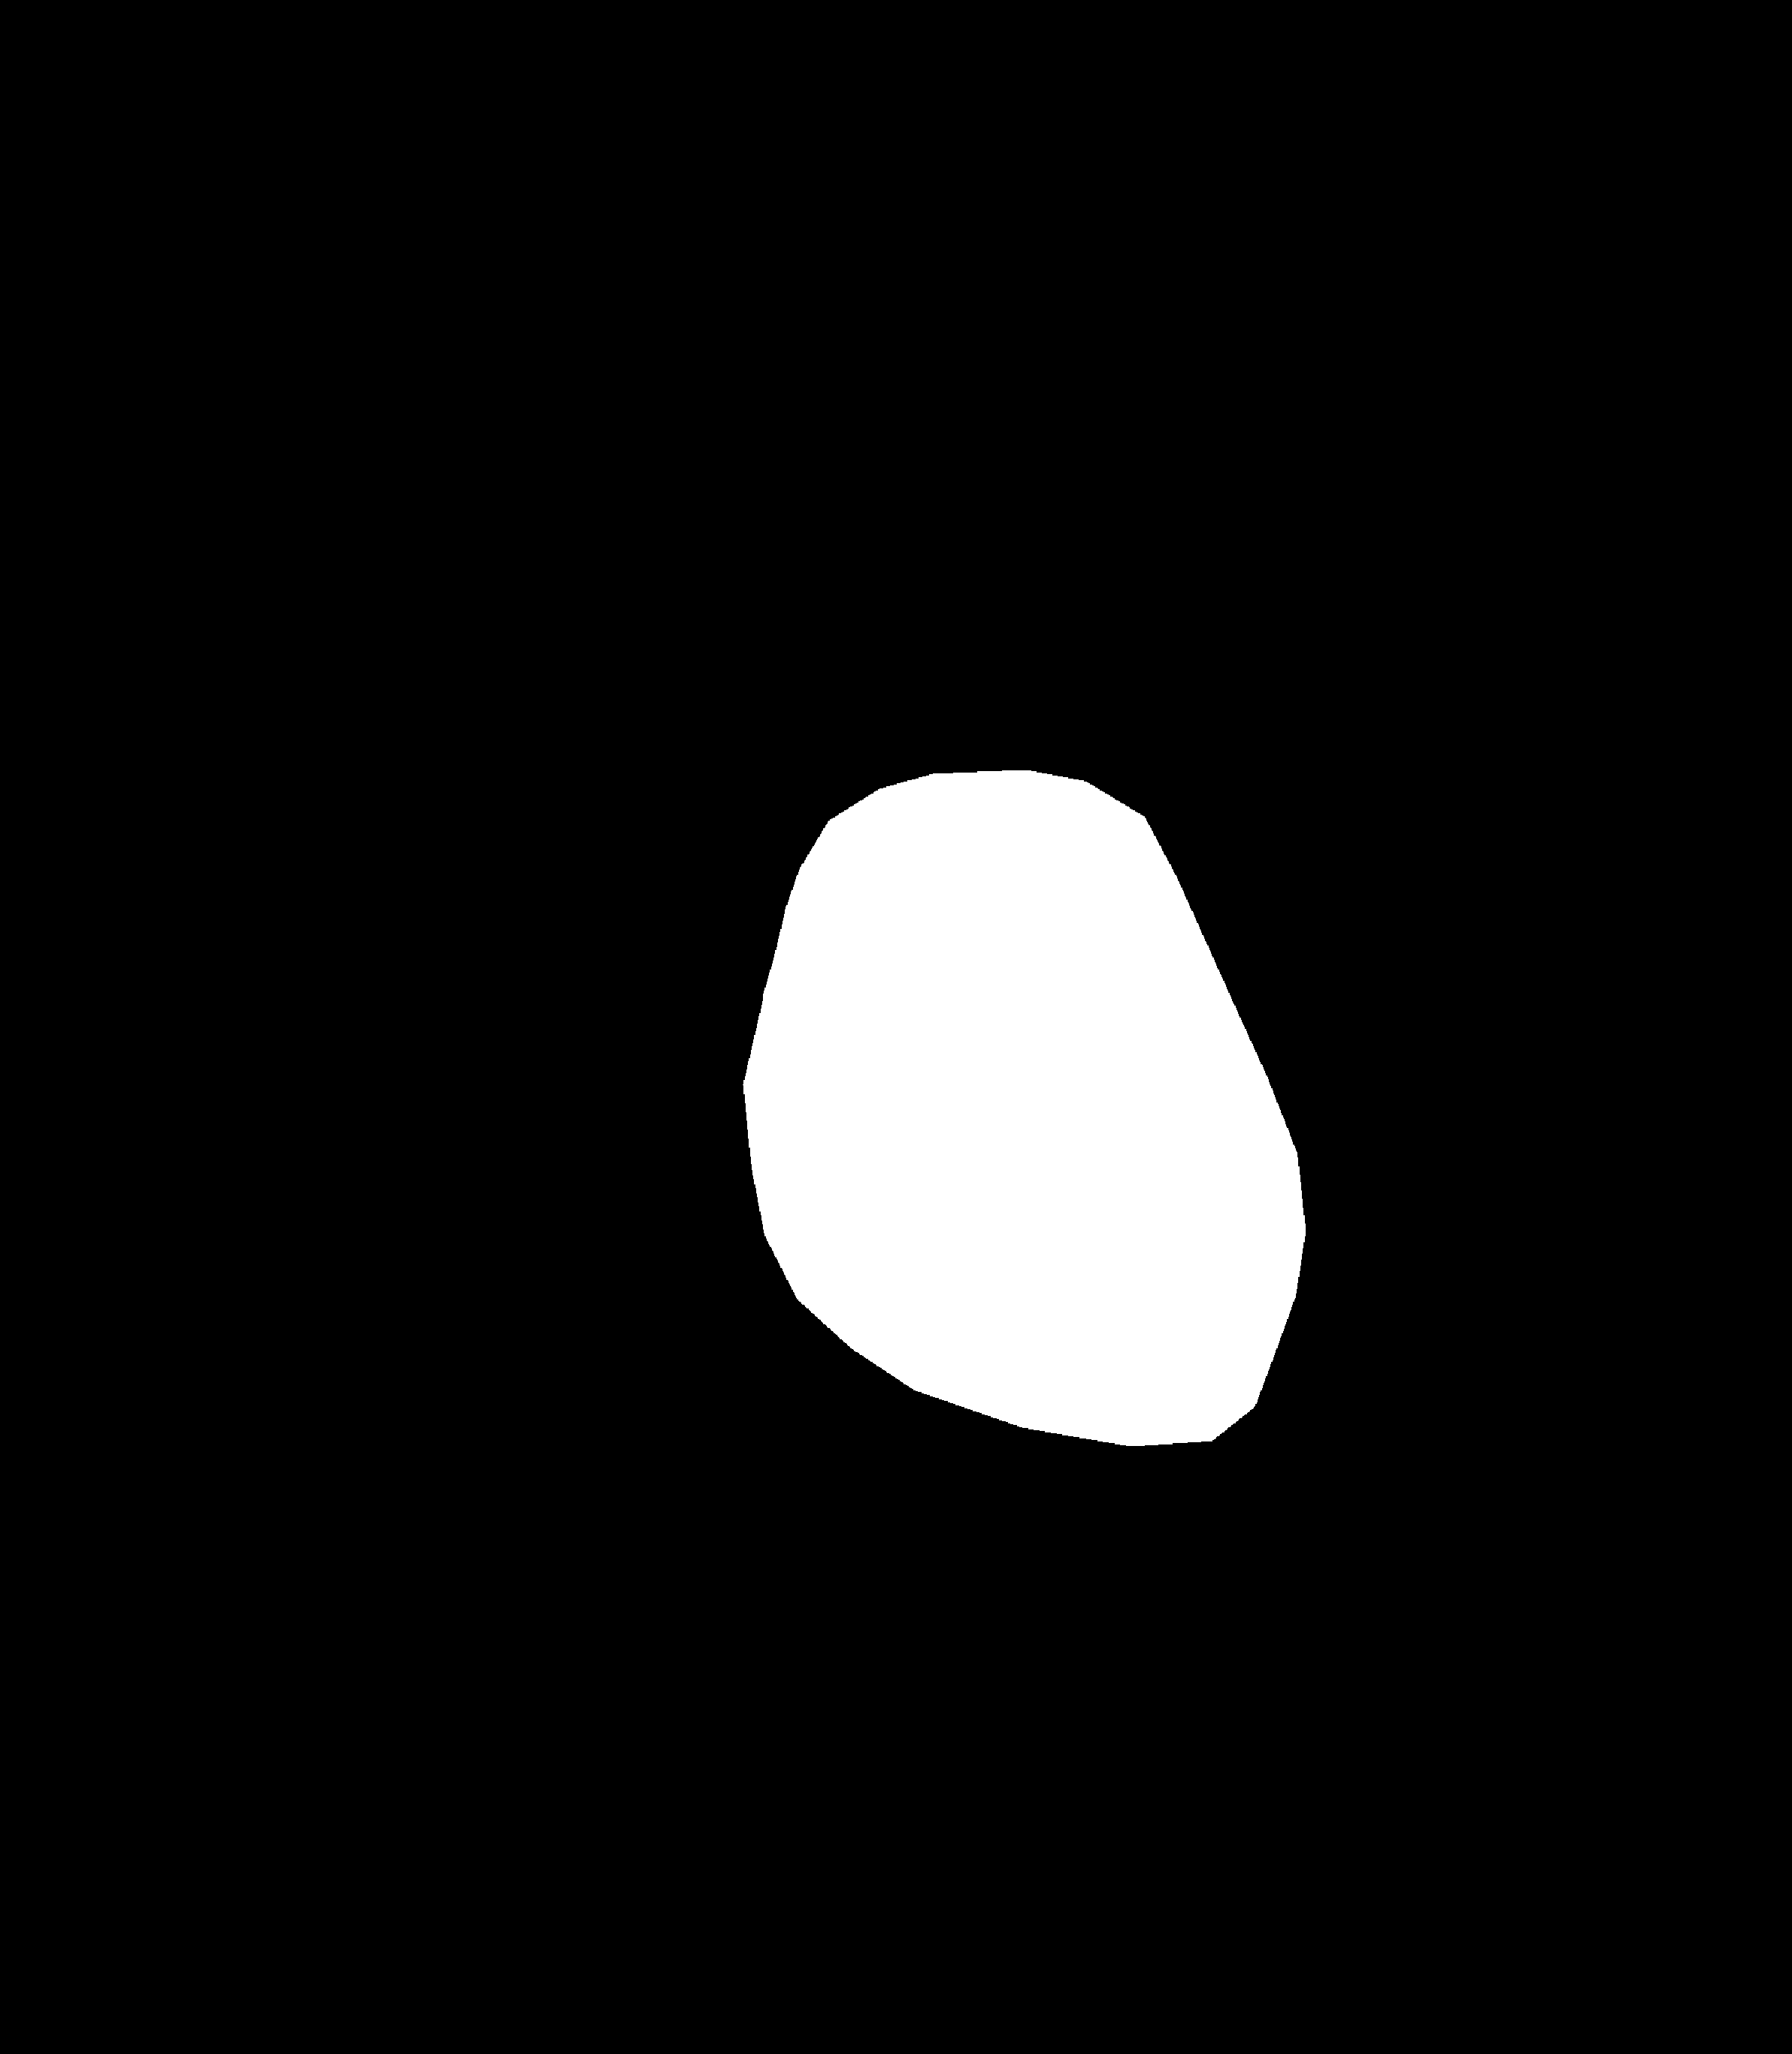heart: (744, 898, 1301, 1418)
left_lung: (243, 264, 899, 1612)
right_lung: (1027, 227, 1568, 1678)
